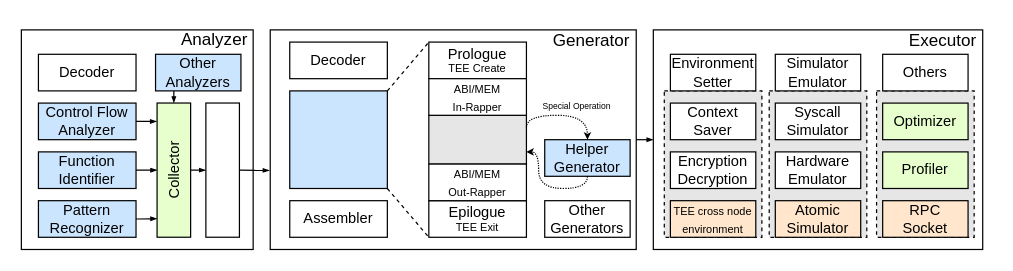
Some shapes in this 1013 by 271 pixel diagram are drawn without their labels. Each missing label, with the centre of its shape:
Context Generator: pixel 338 139
Original Code: pixel 477 139
Serialization: pixel 222 169
